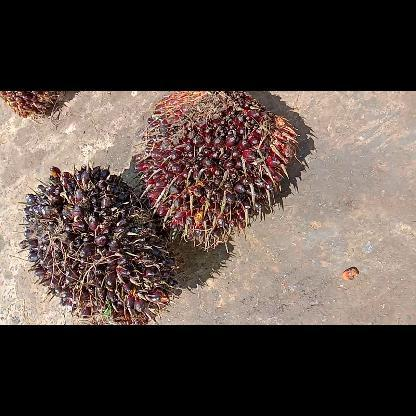TBS mentah: (135, 91, 299, 249), (18, 165, 176, 324)
